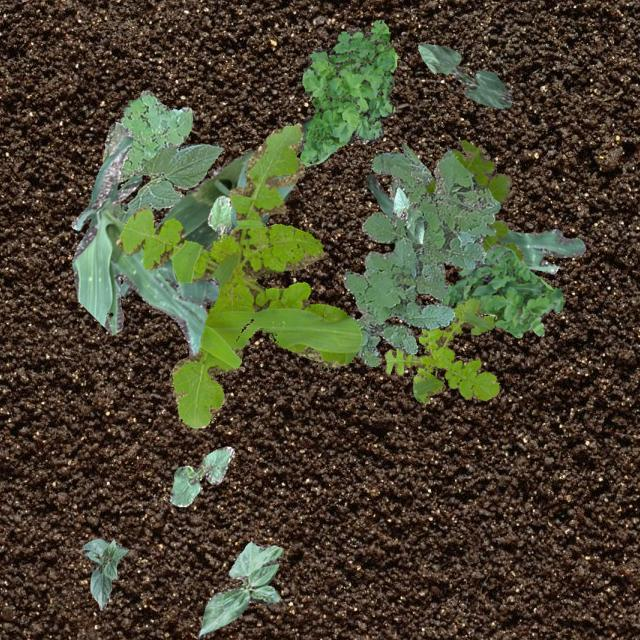crop: (119, 115, 312, 308), (70, 130, 206, 357), (366, 172, 584, 272), (101, 120, 222, 222), (196, 540, 282, 636), (417, 41, 512, 108), (168, 446, 232, 506), (81, 538, 128, 608), (392, 184, 426, 244), (206, 194, 232, 240)
weed: (115, 121, 362, 428), (342, 148, 500, 366), (298, 18, 396, 165), (423, 138, 522, 262), (384, 298, 498, 402), (434, 245, 562, 336), (120, 89, 192, 172), (371, 143, 432, 200)
